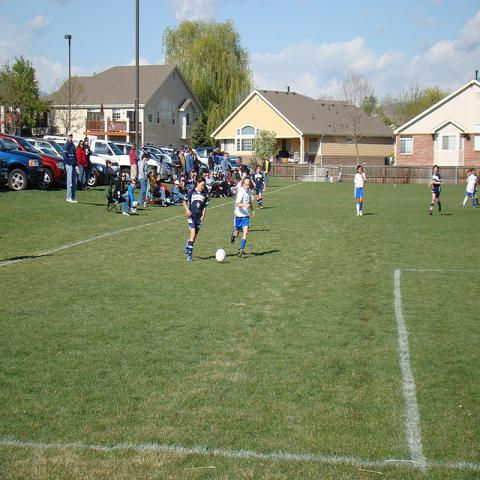car: (87, 136, 242, 180), (0, 129, 64, 191), (0, 140, 46, 191), (112, 141, 170, 180), (28, 137, 66, 164), (87, 162, 107, 186), (192, 149, 210, 172), (43, 135, 68, 148), (144, 145, 168, 154), (33, 147, 56, 156), (156, 154, 172, 164), (162, 148, 174, 157)
